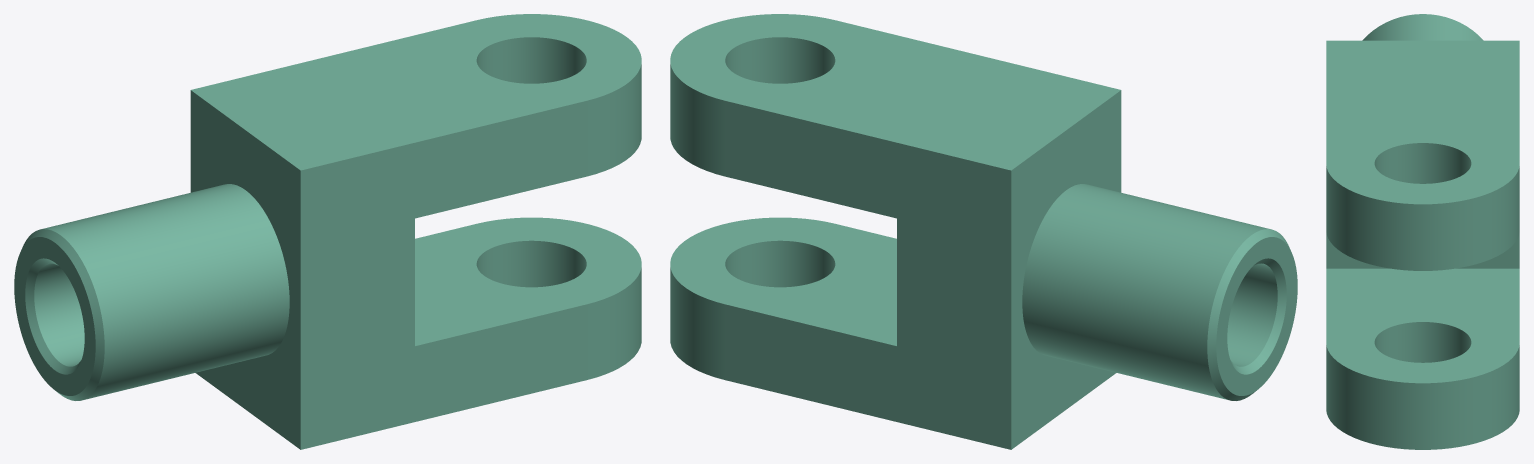
Rendered from step_11.glb.
The picture shows the model from 3 angles, left to right: view 1: azimuth 30°, elevation 25°; view 2: azimuth 150°, elevation 25°; view 3: azimuth 270°, elevation 25°; orthographic projection. The views are drawn at different scales.
Parts seen in each view (by area): view 1: part__fork end; view 2: part__fork end; view 3: part__fork end.
Boxes of the visible parts, box(x1,y1,x2,y2) form: part__fork end: box(14, 14, 641, 449); part__fork end: box(670, 14, 1297, 449); part__fork end: box(1326, 14, 1519, 449).
Bounding box in the file's own units: 150 × 70 × 50.
